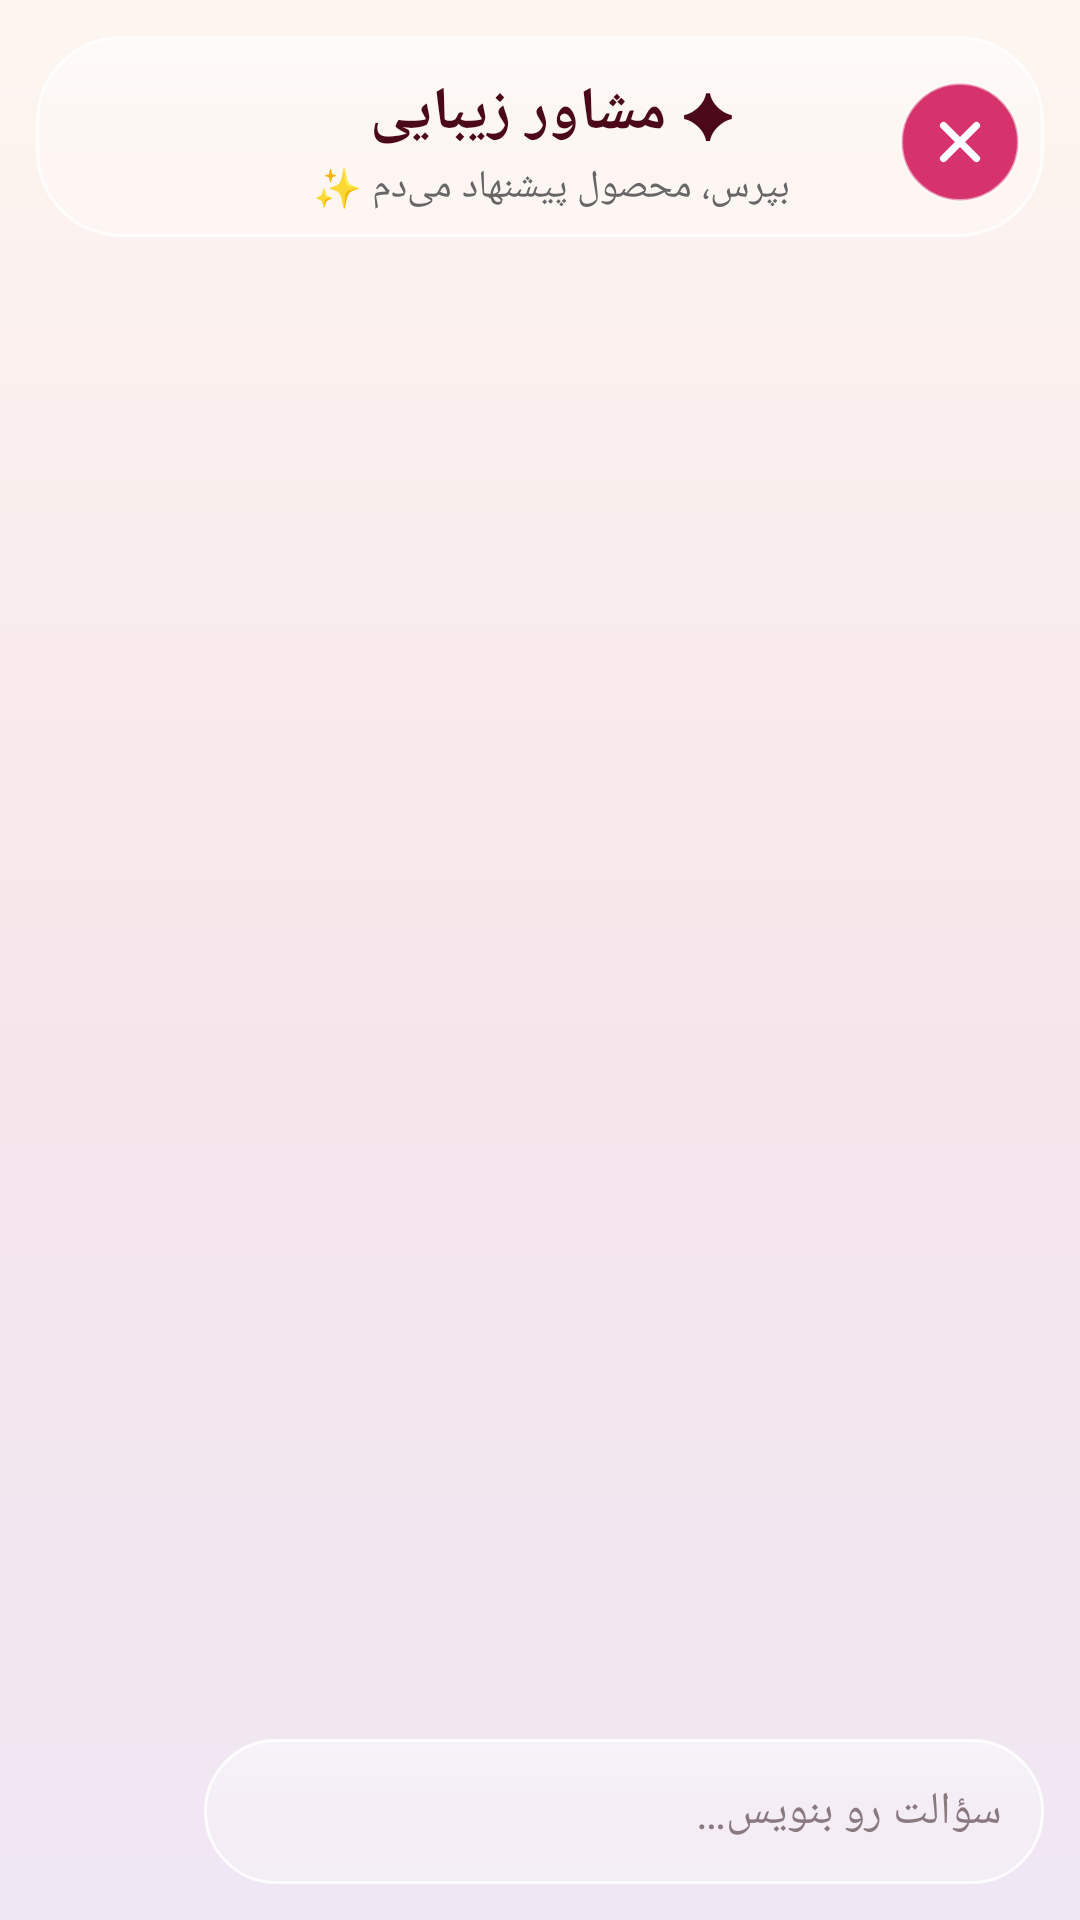

Where icons sit on this 1080 x 1920 app screen, as {"x1": x1, "y1": y1, "x2": x2, "y2": y2}:
بستن: {"x1": 901, "y1": 83, "x2": 1019, "y2": 201}
